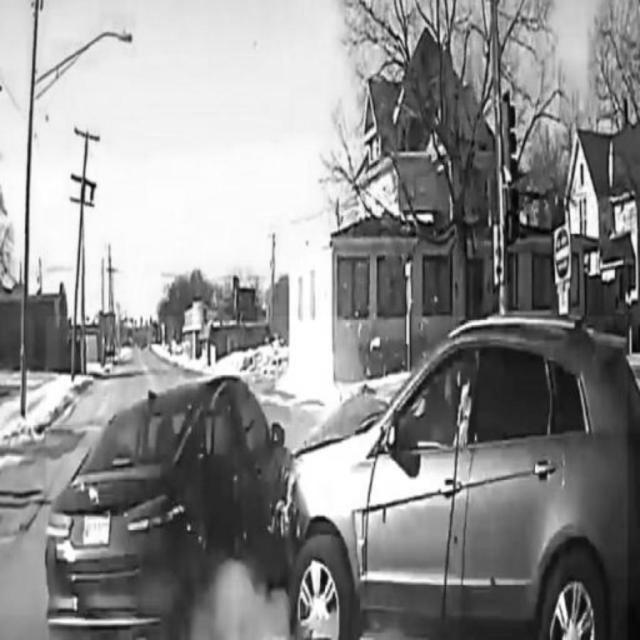accident: (47, 316, 628, 640)
